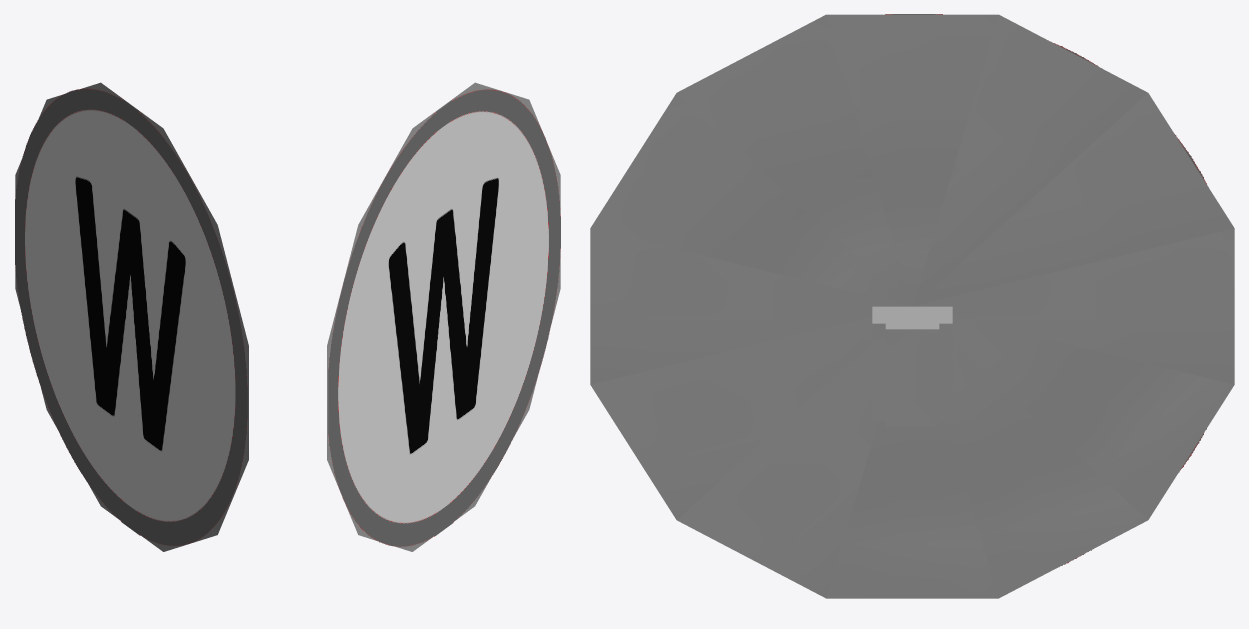
The model's file is whistle_medium.obj.
3 renders of one model, left to right at view 1: azimuth 30°, elevation 25°; view 2: azimuth 150°, elevation 25°; view 3: azimuth 270°, elevation 25°, orthographic. The views are drawn at different scales.
Parts seen in each view (by area): view 1: cube, circle; view 2: cube, circle; view 3: circle, cube.
Part boxes in pixels (x1,y1,x2,y2): cube: [15, 88, 247, 545]; circle: [15, 82, 248, 551]; cube: [328, 89, 560, 546]; circle: [327, 82, 560, 551]; circle: [590, 14, 1234, 598]; cube: [872, 14, 1206, 565].
Bounding box in the file's own units: 0.0641 × 0.75 × 0.75.
2 materials, 2 textured.
